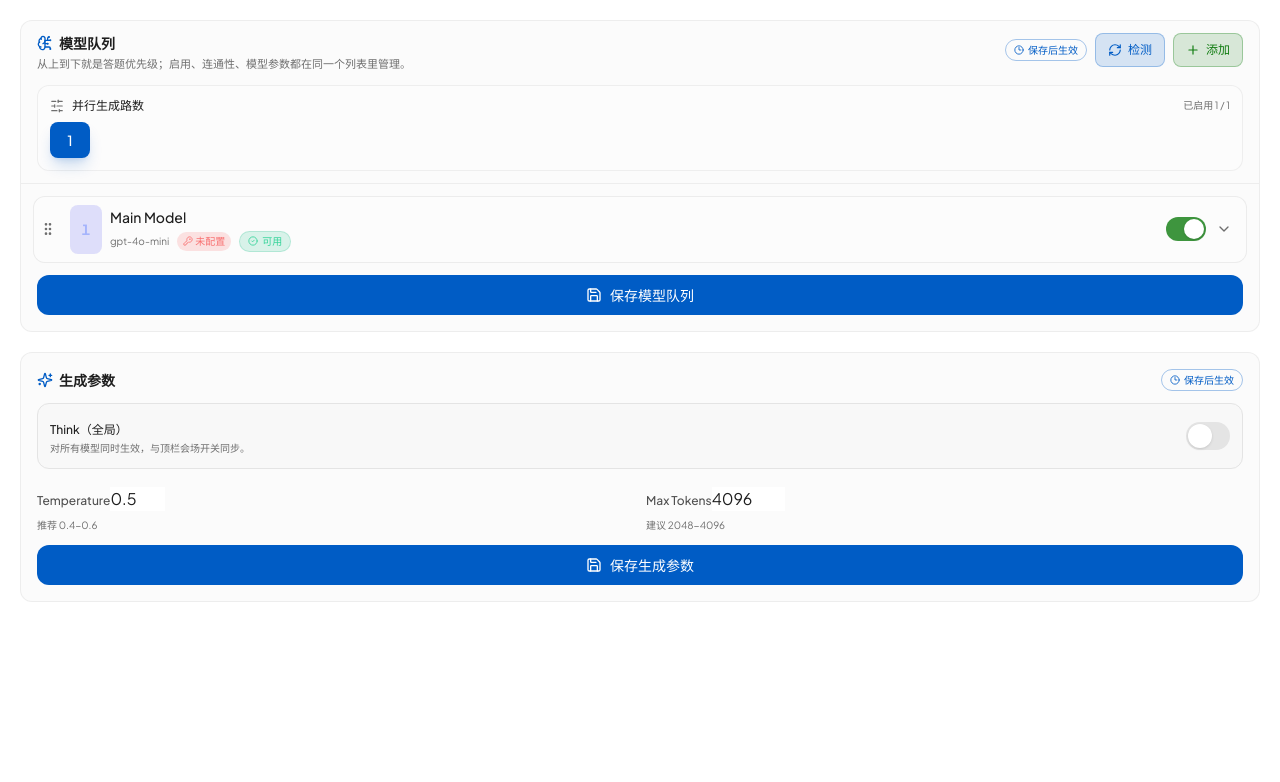
Test case: ModelsTab state sync › shows model queue dirty state after editing a model field
expect the button "保存模型队列" is shown: met, box 37,275 -> 1243,315
Click the text "Main Model". click: (148, 217)
box: 110,207 -> 186,227
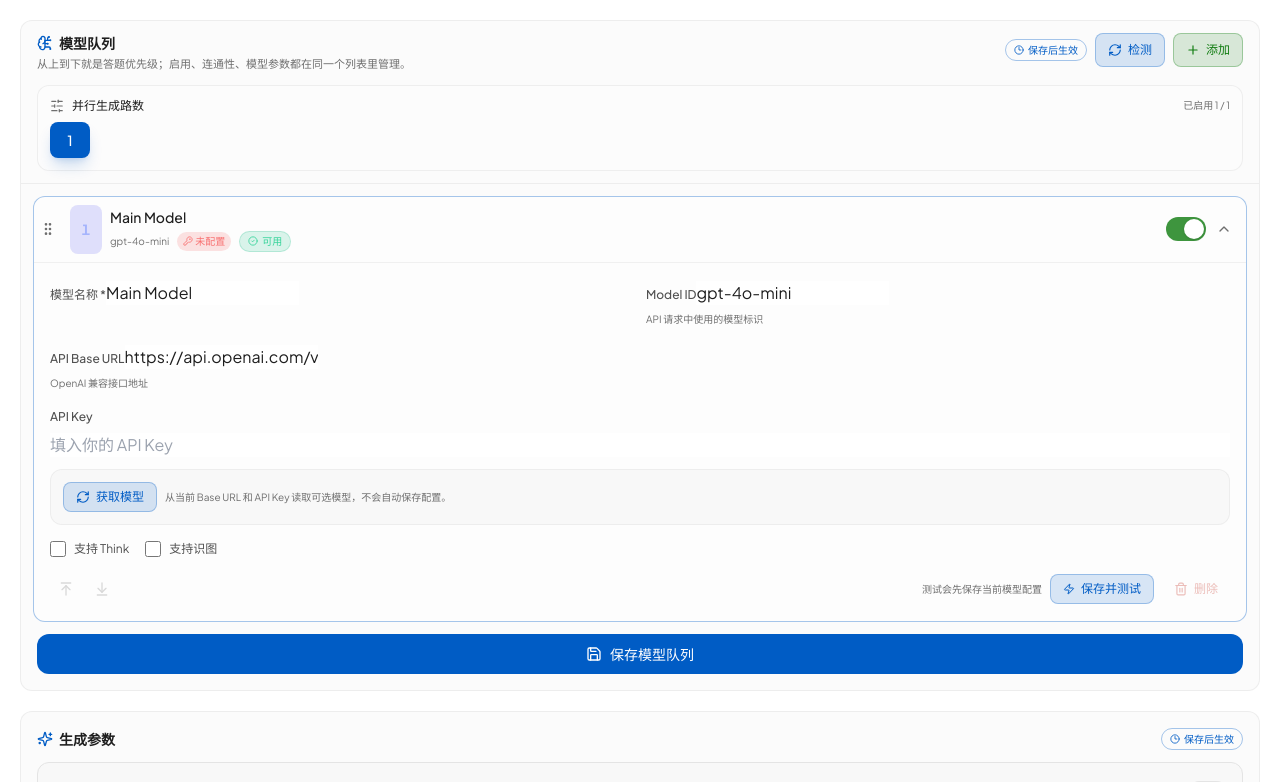
Replace the text in the field with placeholder "如：gpt-4o、ep-xxxxx" next to "Model ID" with "gpt-4o". click: (793, 293)
box: 696,281 -> 890,305
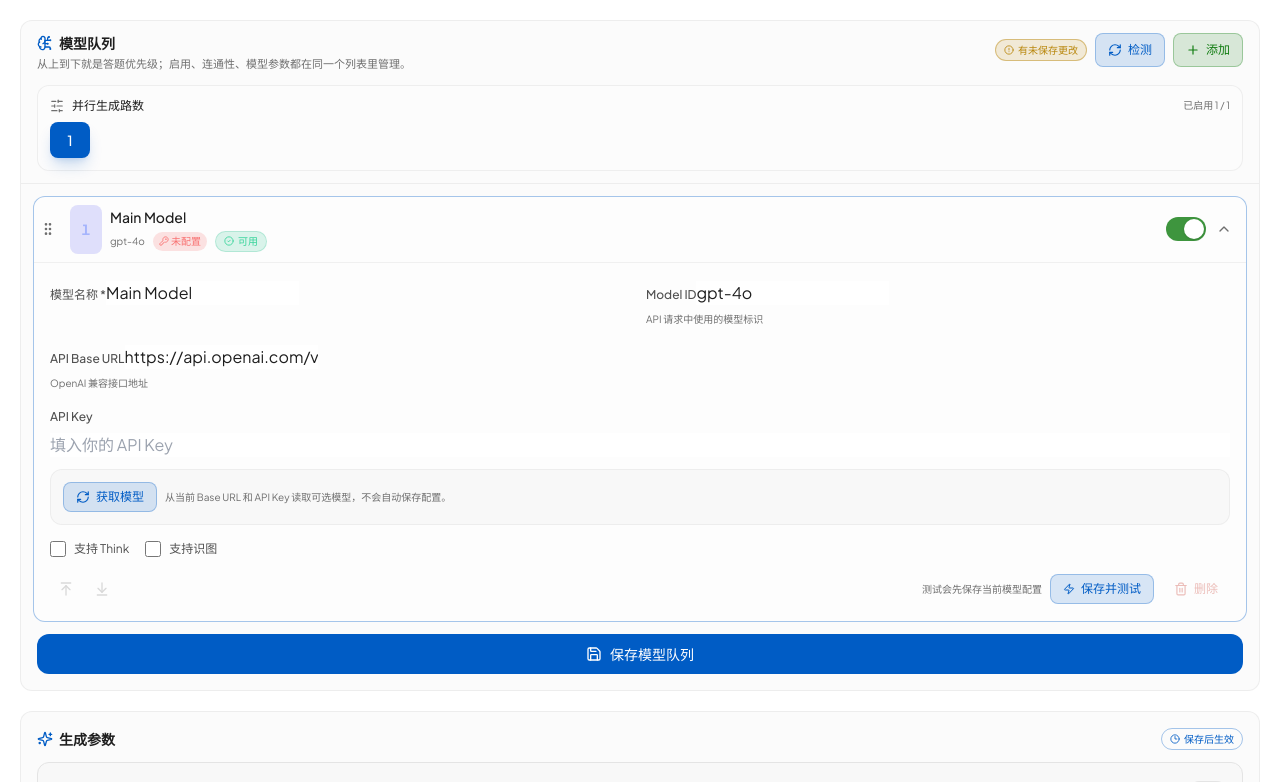
expect the text "有未保存更改" is shown: met, box 1018,42 -> 1078,58
